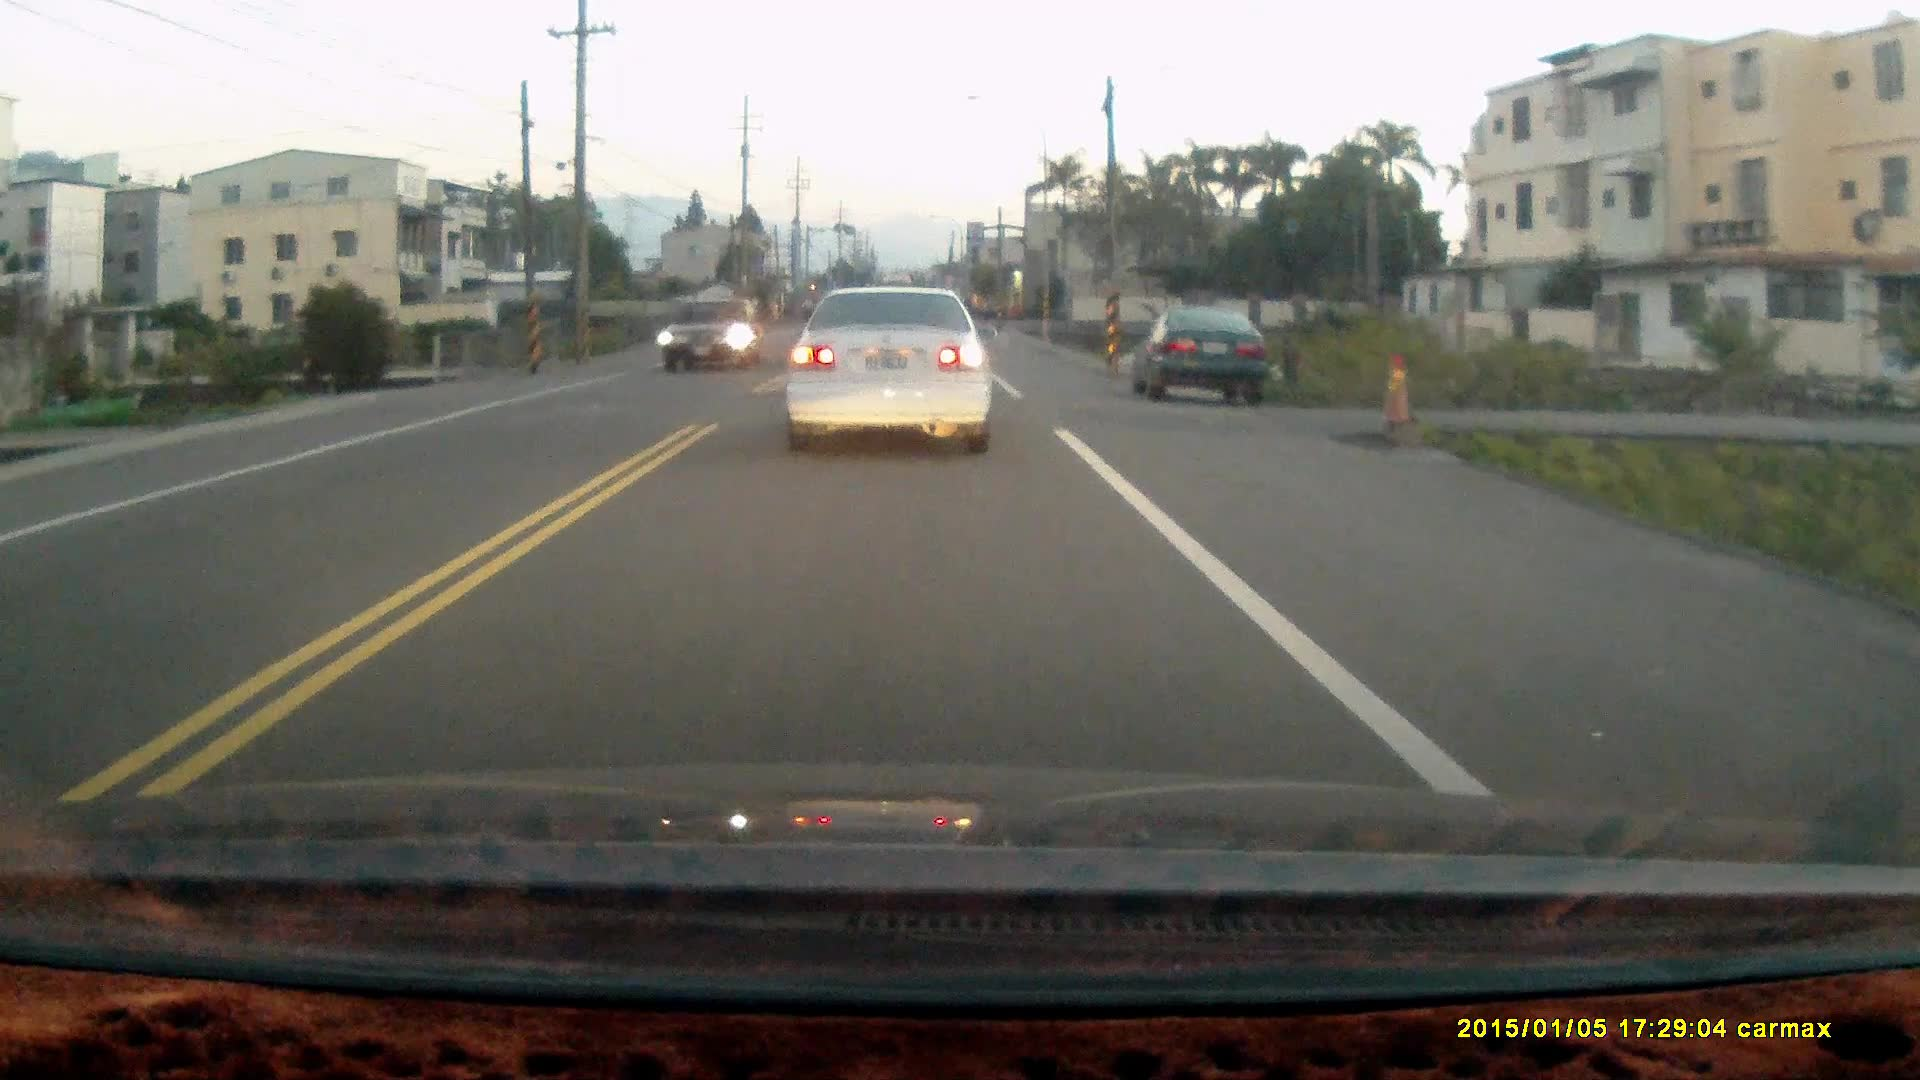pedestrian: (1276, 336, 1297, 386)
vehicle: (781, 284, 998, 459), (1144, 304, 1280, 409), (658, 292, 763, 372)
